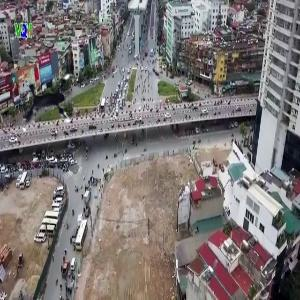drone: (9, 64, 96, 151)
